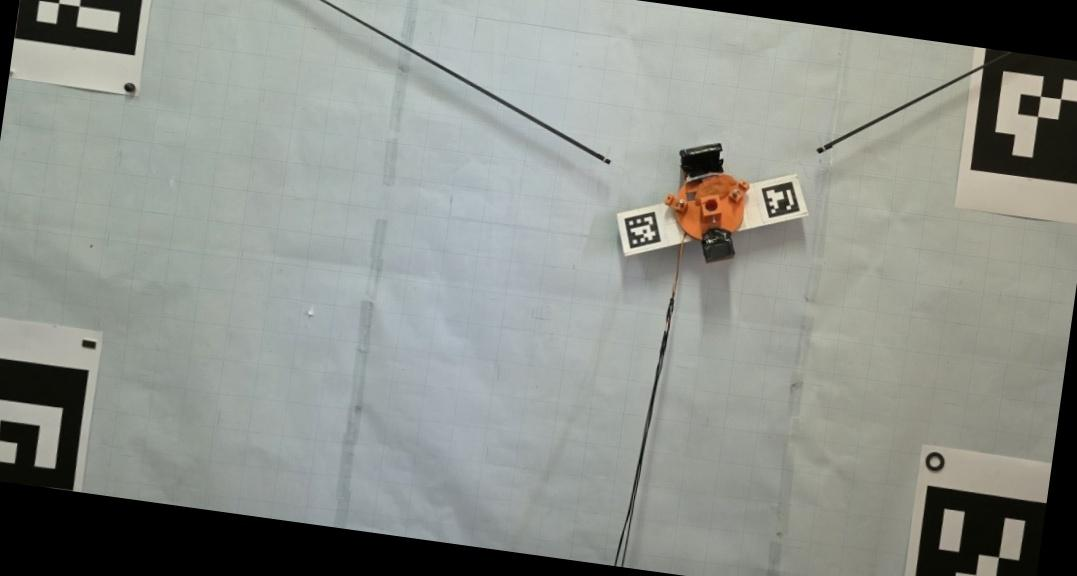robot: (666, 142, 751, 263)
